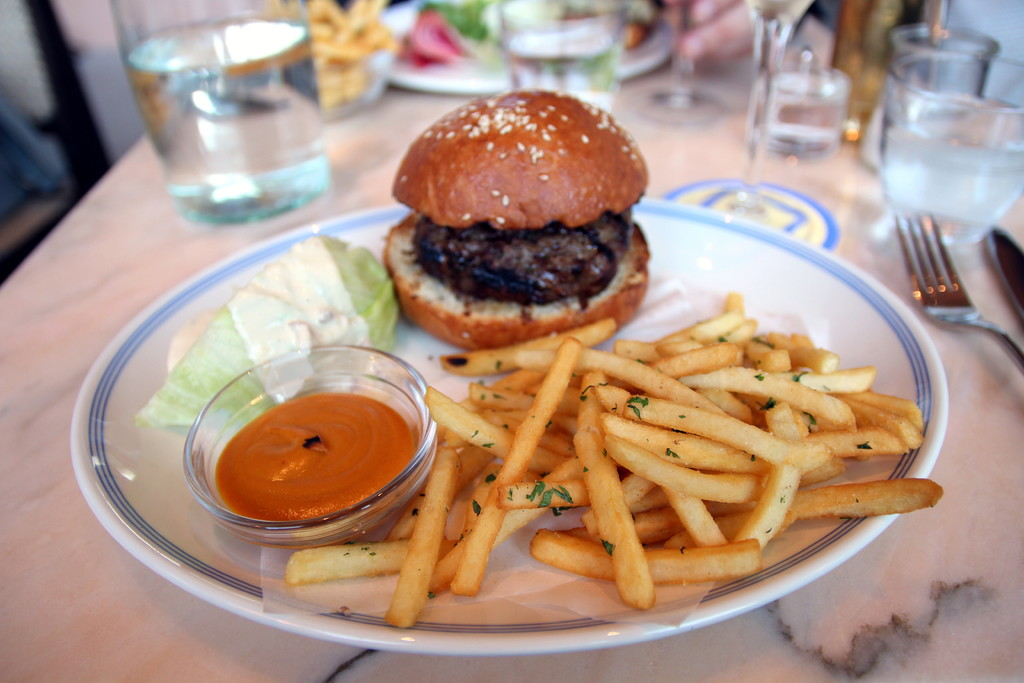French fries: (387, 303, 907, 615)
